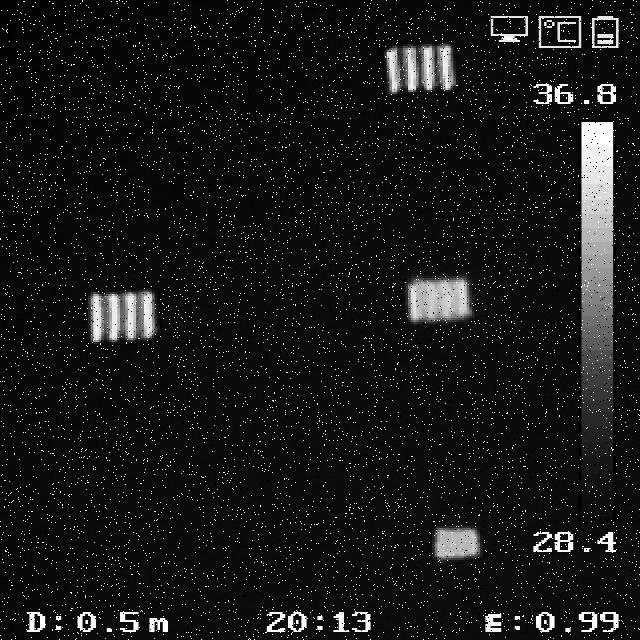Distinguishable 4-bar target: (385, 40, 455, 97), (86, 292, 158, 341)
Indistinguishable 4-bar target: (432, 528, 483, 560)
threshold 4-bar target: (408, 280, 475, 320)
